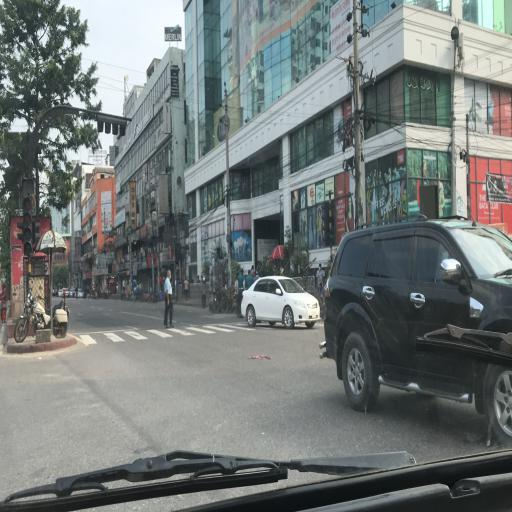bicycle: (214, 291, 230, 315)
car: (242, 276, 322, 331), (79, 289, 85, 299)
motorbike: (15, 296, 71, 343), (121, 291, 126, 301)
suv: (322, 228, 512, 440)
